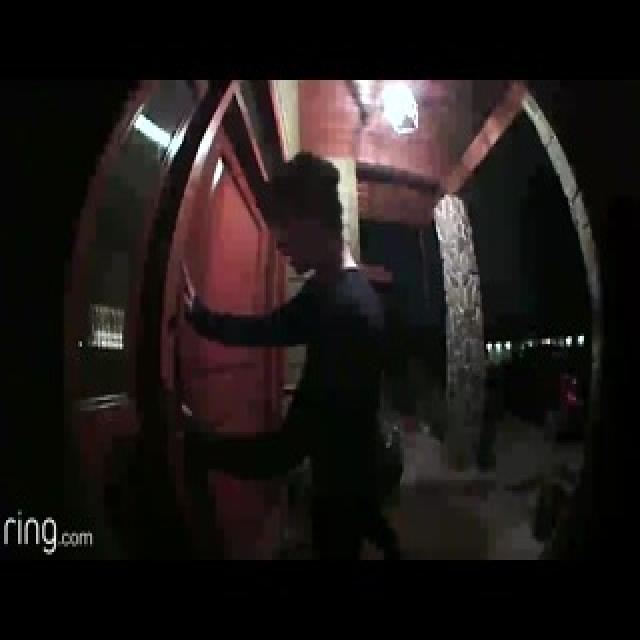thief: (229, 164, 371, 395)
